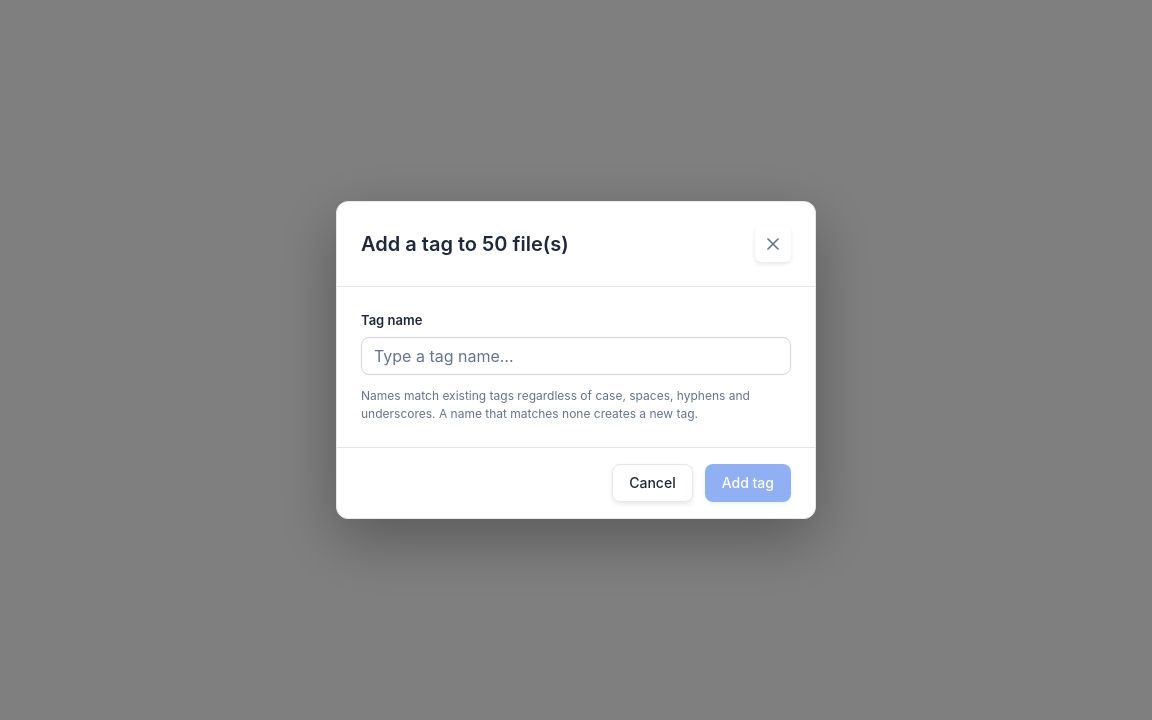
BulkTagModal › names the tag a supplied name resolved to, before the outcome counts
In the dropdown: [576, 356] box [361,337,791,375], type "Interview"
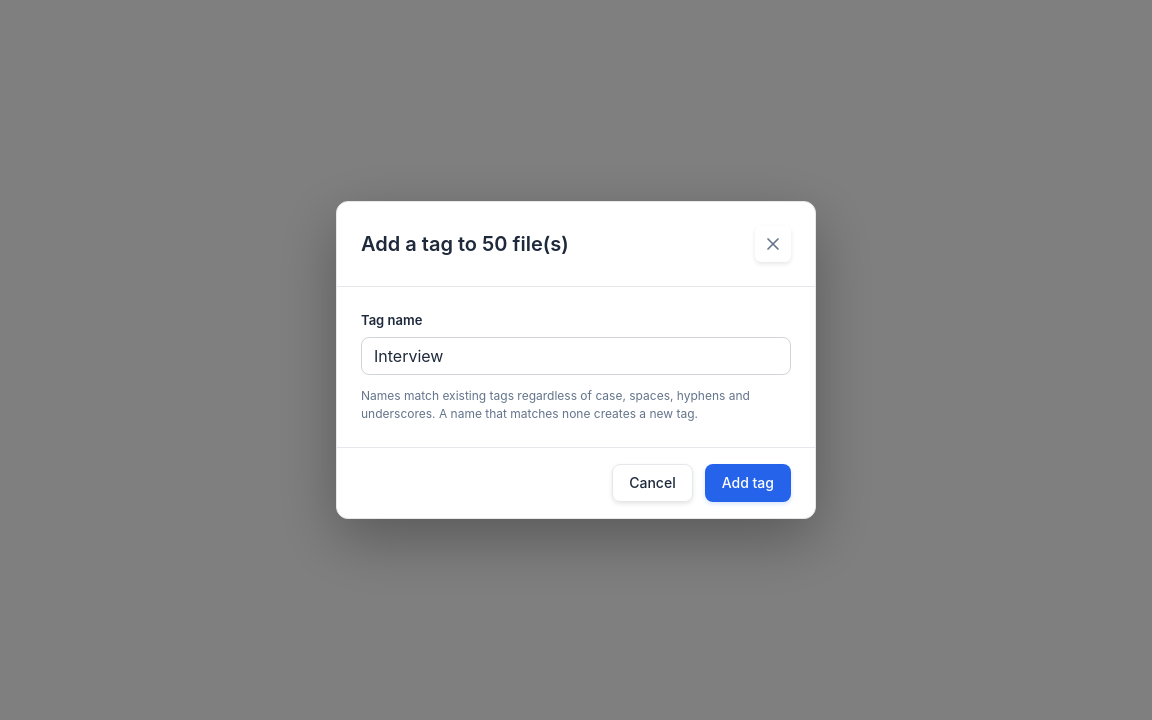
Click the button "Add tag": [748, 483] box [705,464,791,502]
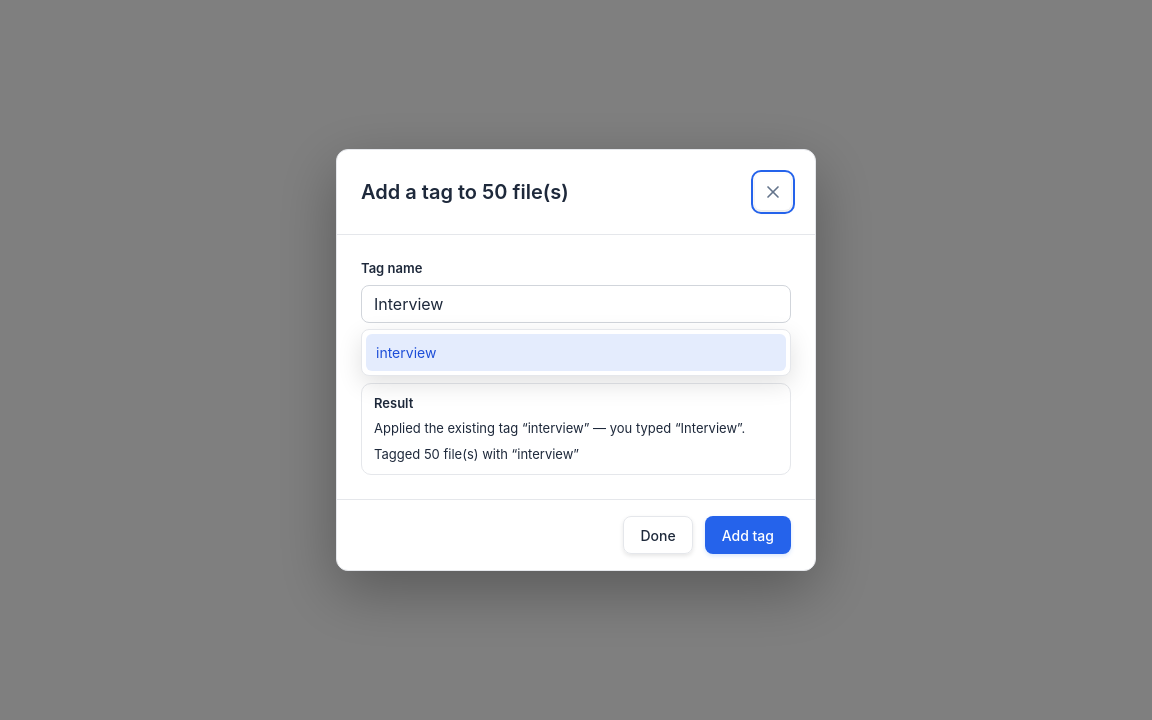
Result: the message shows "Applied the existing tag “interview” — you typed “Interview”." at [374,420,745,436]
